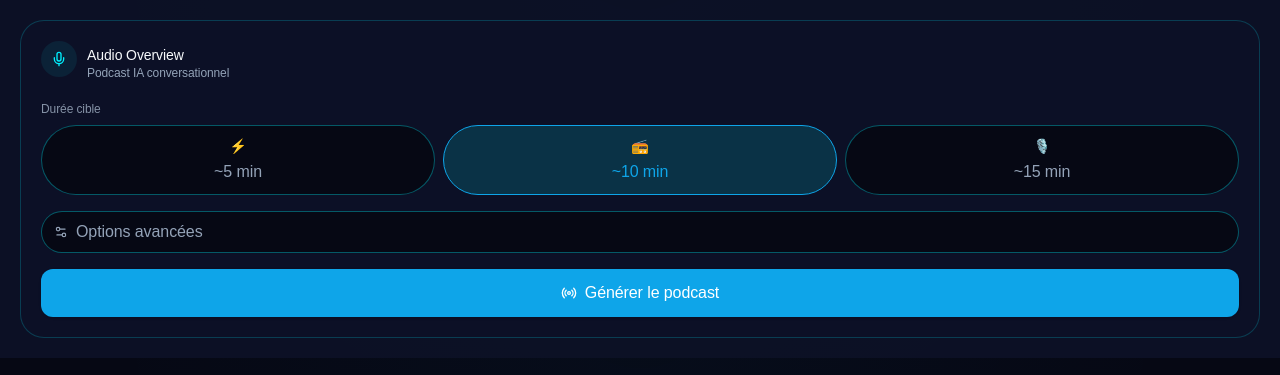
Test case: AudioOverviewPanel — génération (caractérisation après découpage) › génère un podcast et rafraîchit la liste
Click the button "Générer le podcast": (640, 293) left=41, top=269, right=1239, bottom=317
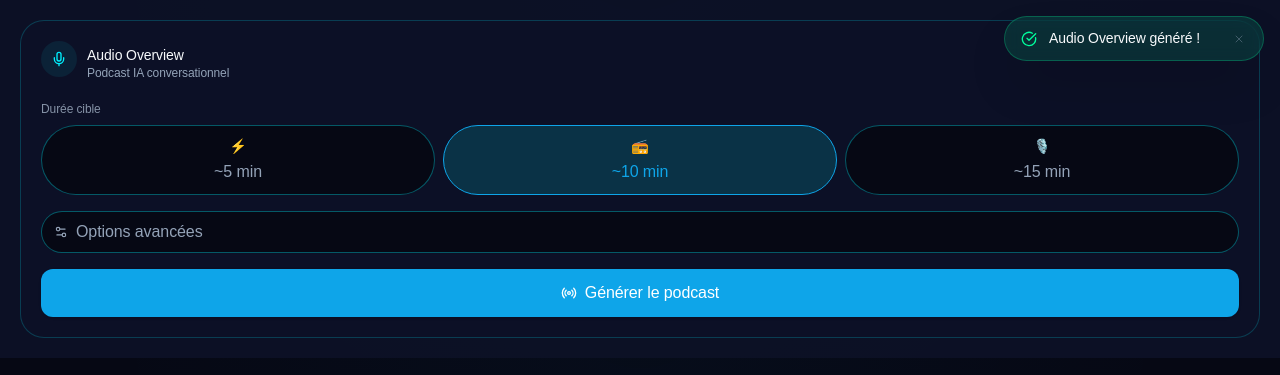
Expected: the text "Audio Overview généré !" is shown, left=1049, top=29, right=1219, bottom=48
